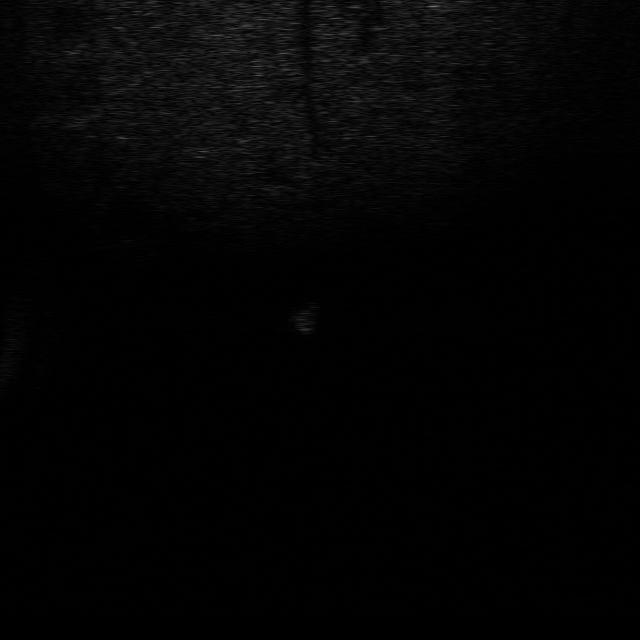human body: (286, 299, 324, 337)
